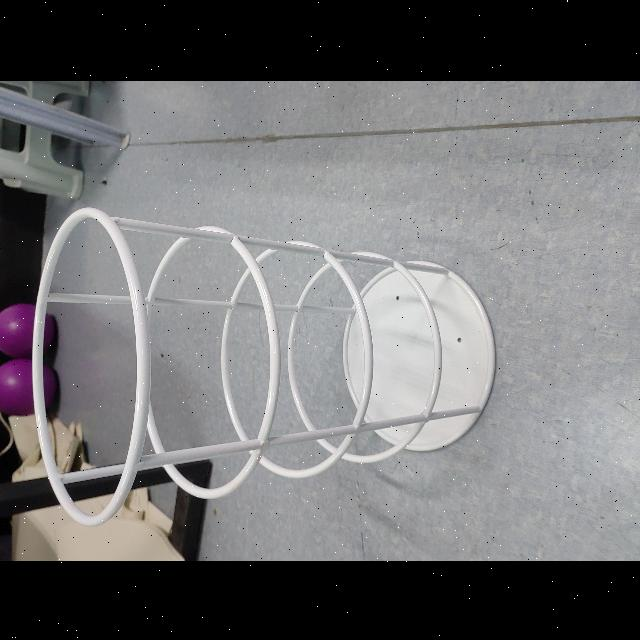S: (29, 200, 501, 526)
